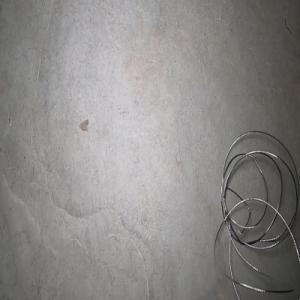Wire: (213, 130, 300, 300)
